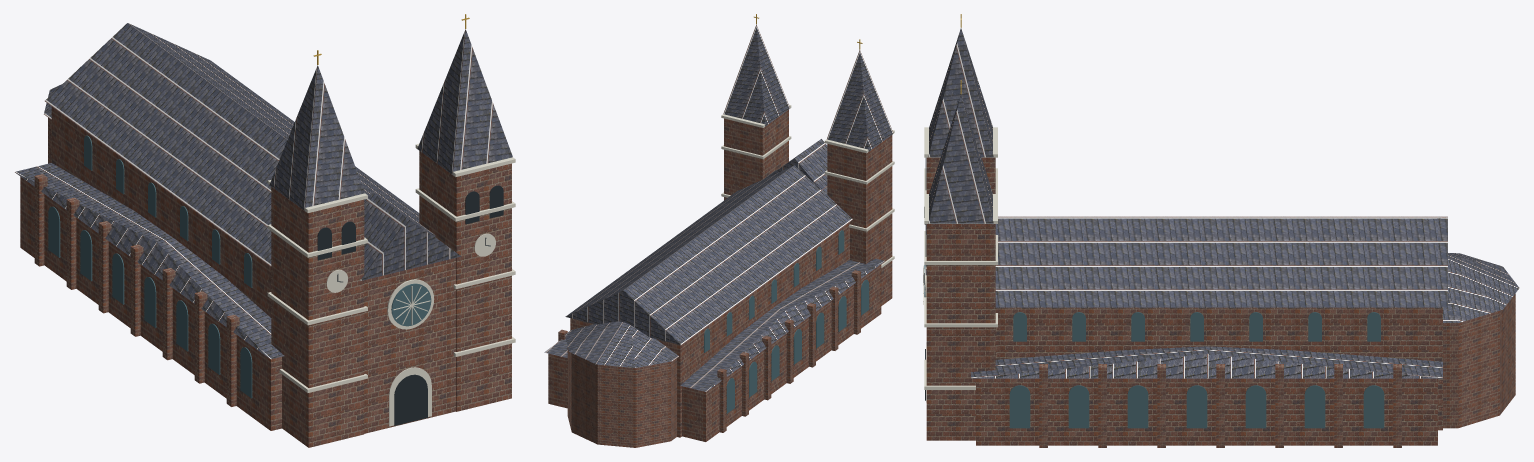
File: uithoorn-schanskerk.glb
3 renders of one model, left to right at view 1: azimuth 30°, elevation 25°; view 2: azimuth 150°, elevation 25°; view 3: azimuth 270°, elevation 25°, orthographic. The views are drawn at different scales.
Visible parts, largest first — view 1: Uithoorn_schanskerk; view 2: Uithoorn_schanskerk; view 3: Uithoorn_schanskerk.
Boxes of the visible parts, x1=… form: Uithoorn_schanskerk: x1=15, y1=14, x2=515, y2=447; Uithoorn_schanskerk: x1=544, y1=14, x2=894, y2=447; Uithoorn_schanskerk: x1=923, y1=14, x2=1519, y2=447.
Bounding box in the file's own units: 25.5 × 39 × 60.63.
6 materials, 2 textured.
